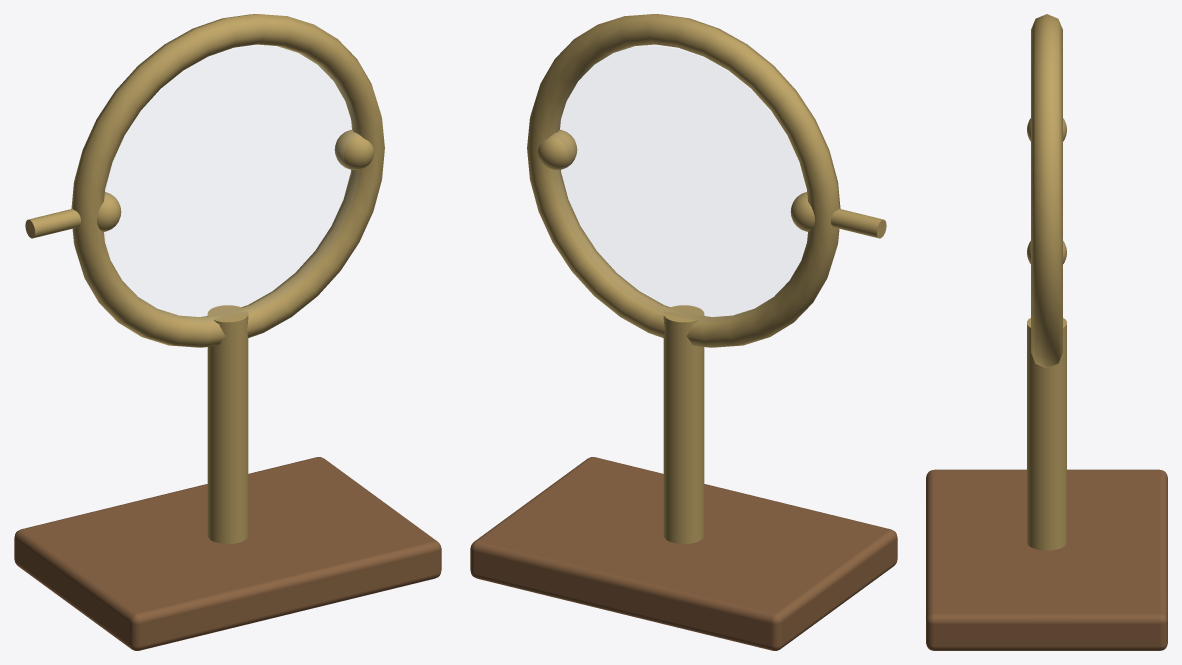
The model's file is fantasy-cartographers-map-printing-guild-crystal-route-8ef30512__32272.glb.
3 renders of one model, left to right at view 1: azimuth 30°, elevation 25°; view 2: azimuth 150°, elevation 25°; view 3: azimuth 270°, elevation 25°, orthographic.
Visible parts, largest first — view 1: crystal-route-tracing-lens; view 2: crystal-route-tracing-lens; view 3: crystal-route-tracing-lens.
Part boxes in pixels (box(x1,y1,x2,y2)): crystal-route-tracing-lens: box(14, 14, 441, 650); crystal-route-tracing-lens: box(470, 14, 897, 650); crystal-route-tracing-lens: box(926, 14, 1167, 650).
Size of the model in its own units: 0.5 by 0.75 by 0.3.
